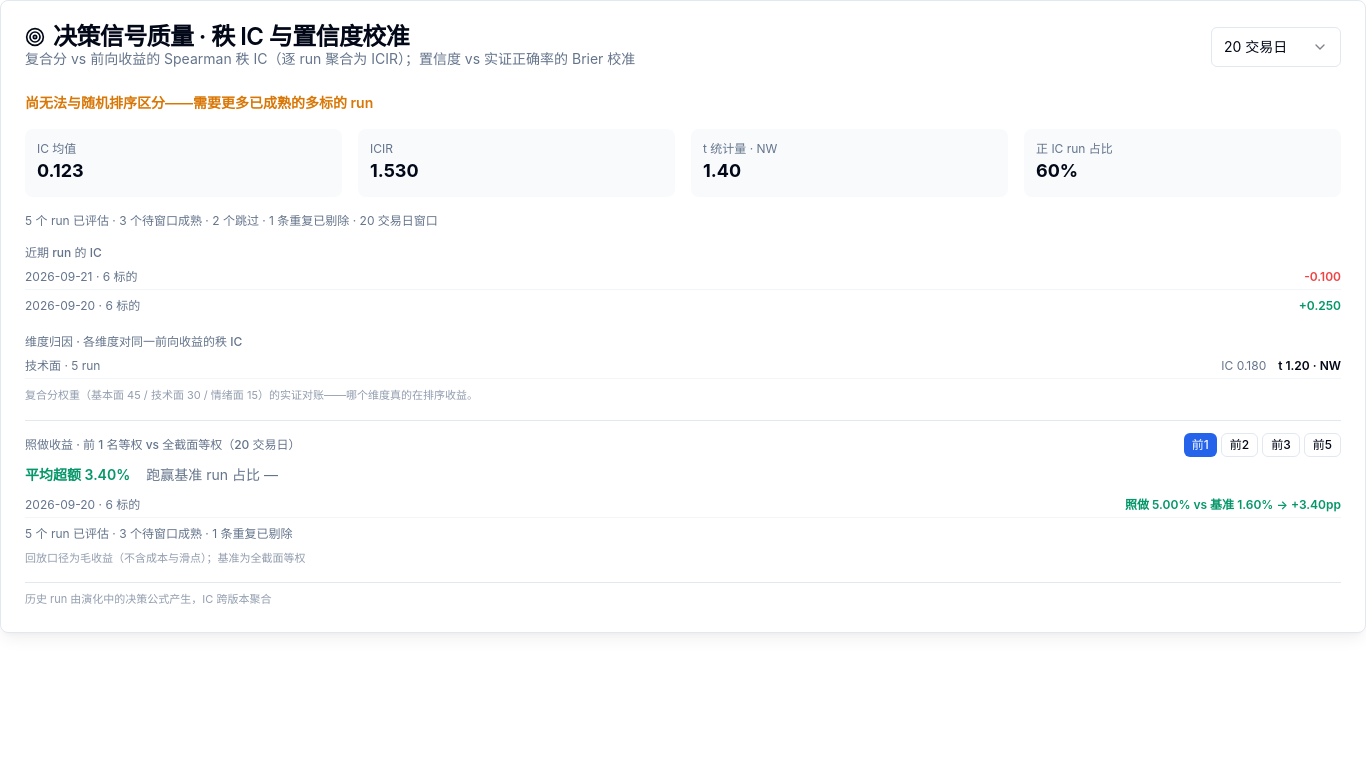
it: SignalQualityCard interactions › refetches the money view when a top-k selector button is clicked
The image size is (1366, 768).
expect the text "照做收益 · 前 1 名等权 vs 全截面等权（20 交易日）" is shown: met, box x1=25 y1=436 x2=300 y2=452
Step 1. Click the button "前3" → [1281, 444], box x1=1262 y1=432 x2=1300 y2=456
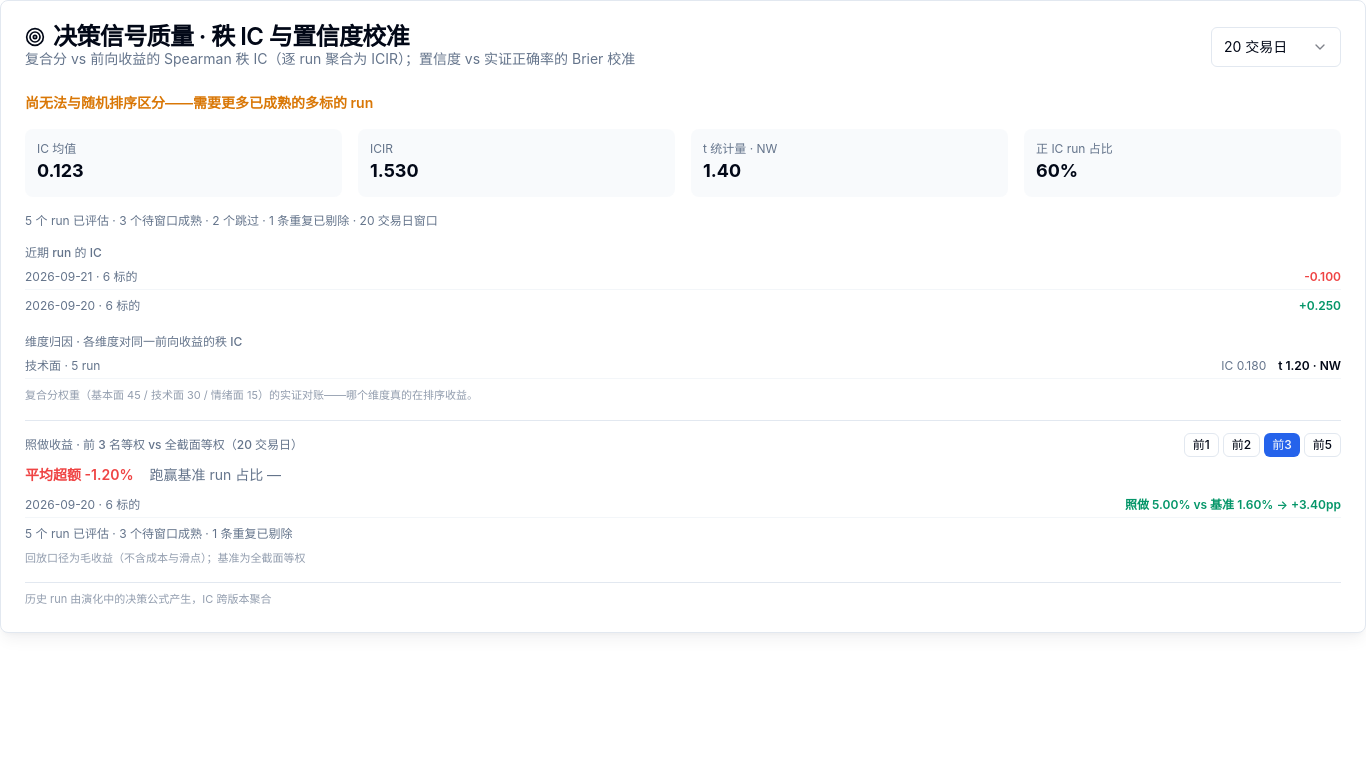
expect the text "照做收益 · 前 3 名等权 vs 全截面等权（20 交易日）" is shown: met, box x1=25 y1=436 x2=303 y2=452
expect the text "平均超额 -1.20%" is shown: met, box x1=25 y1=464 x2=134 y2=484
